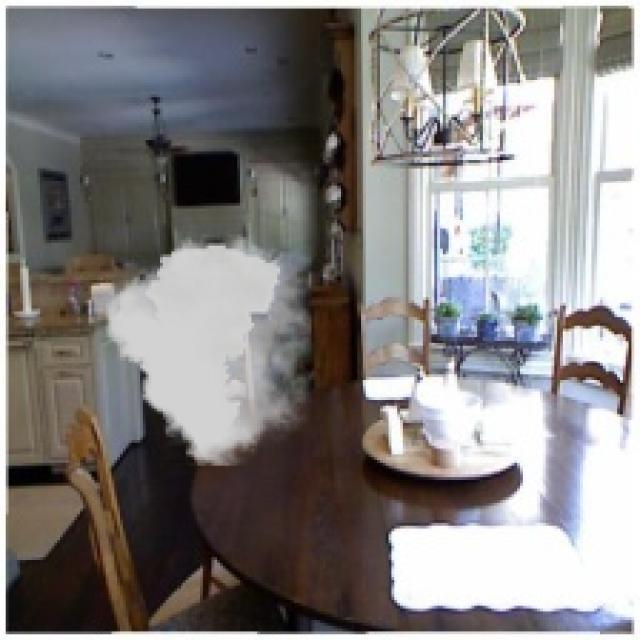Smoke: (106, 234, 312, 466)
